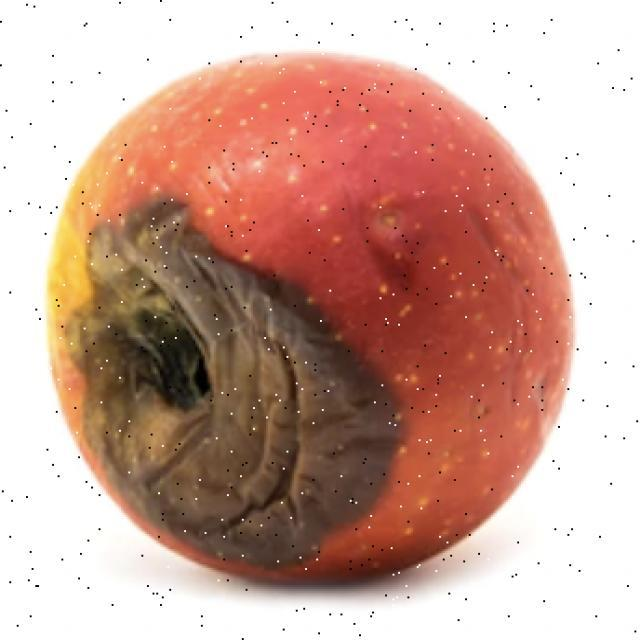Rotten: (83, 57, 515, 580)
